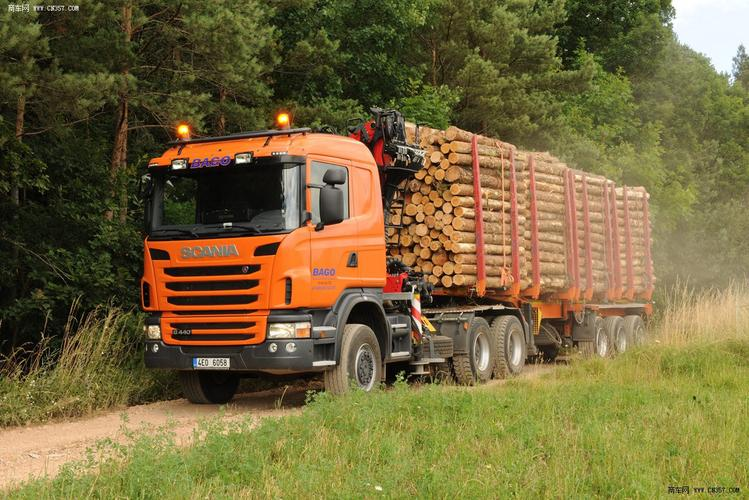卡车: (124, 112, 666, 394)
